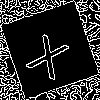X: (25, 25, 76, 80)
